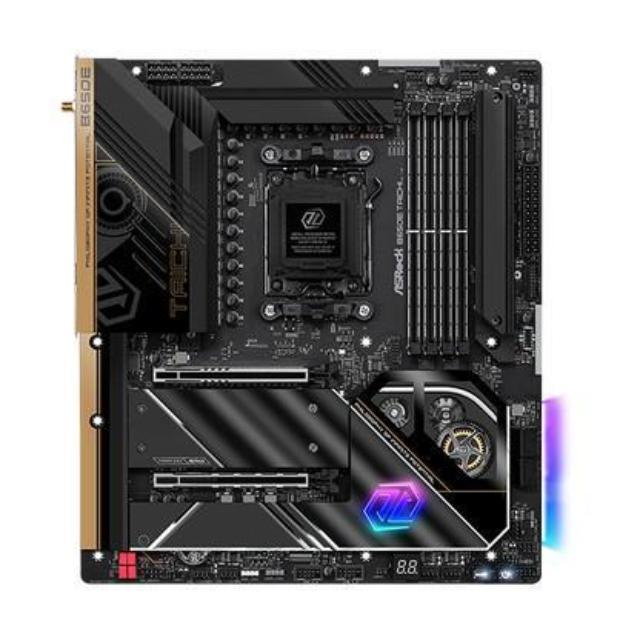Mainboard: (74, 49, 551, 586)
